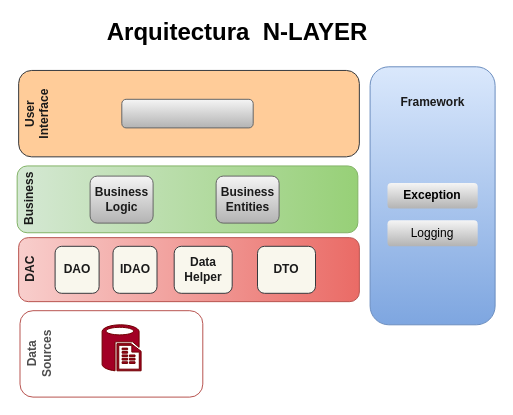
Image size: 513x415. Some labels were removed from this diagram. The centre of each missing label's shape, as x and y in pixels:
"SQLITE" goes at (x=121, y=347).
"UI Component" goes at (x=187, y=113).
